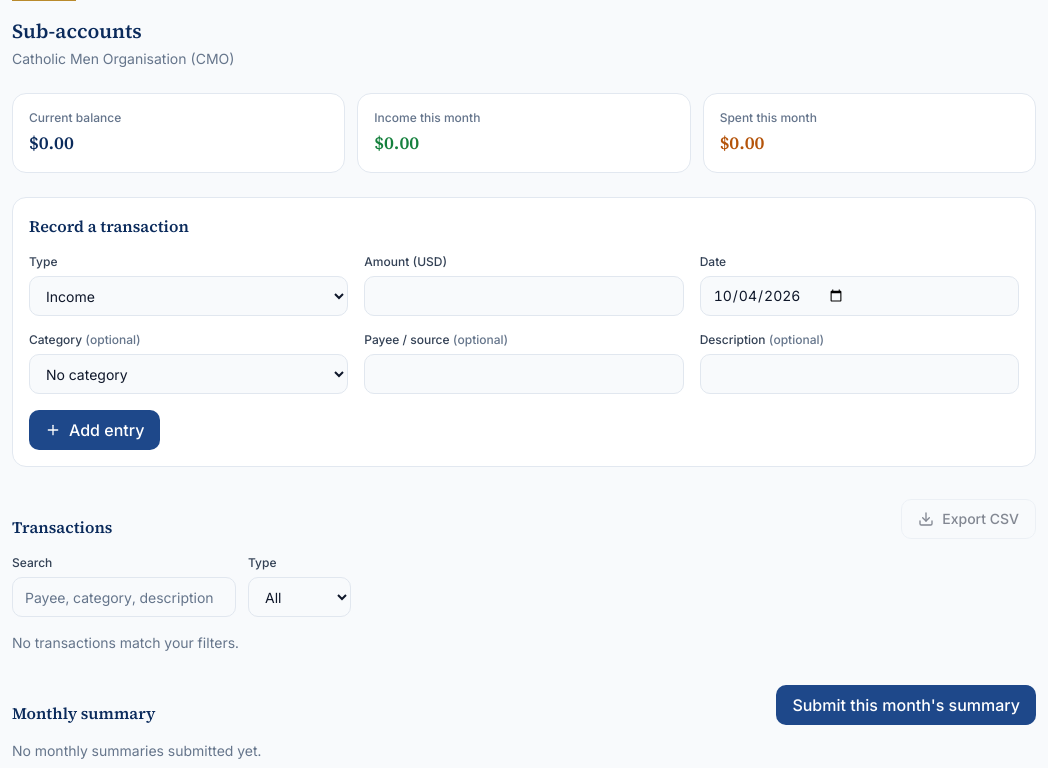
Test case: Sub-Account Manager page (stories 6.3 / 6.5 / 6.6) › swaps the payee field for a member picker when a dues category is chosen
Expected: the form "Record a transaction" is shown, [12,197,1036,467]
Expected: the field labelled "Payee / source (optional)" is shown, [364,354,684,394]
Select "CMO Dues" in the dropdown labelled "Category (optional)" at {"x": 189, "y": 374}, box [29,354,348,394]
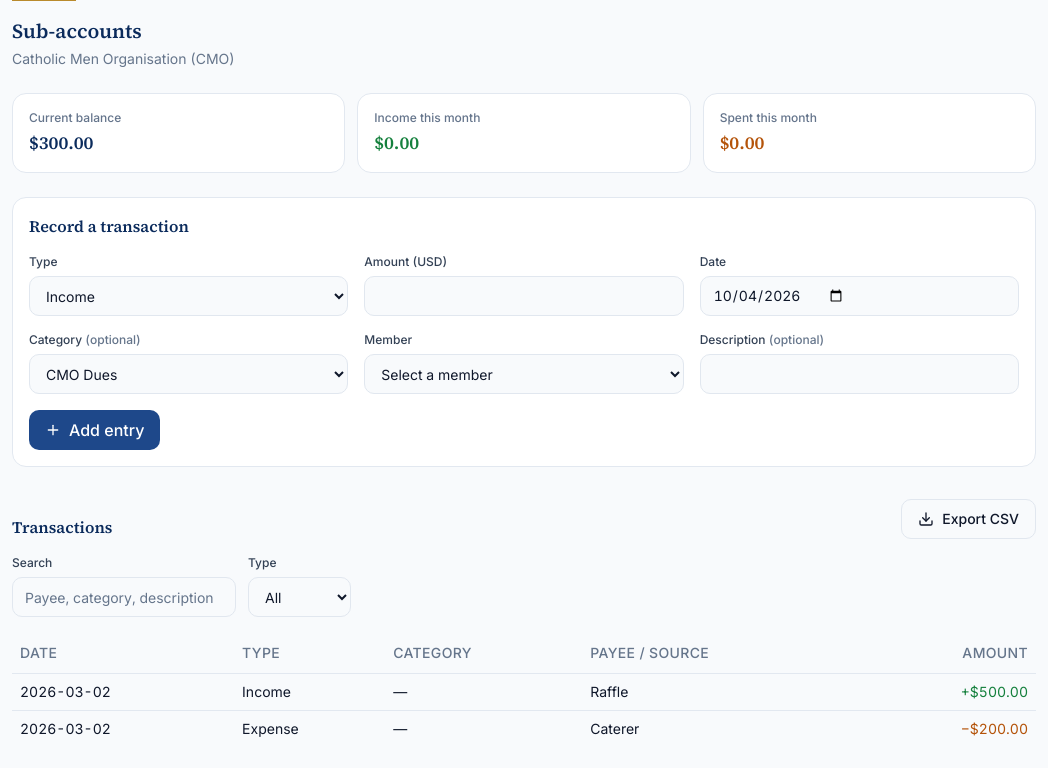
Expected: the dropdown named "member paying dues" is shown, [364,354,684,394]
